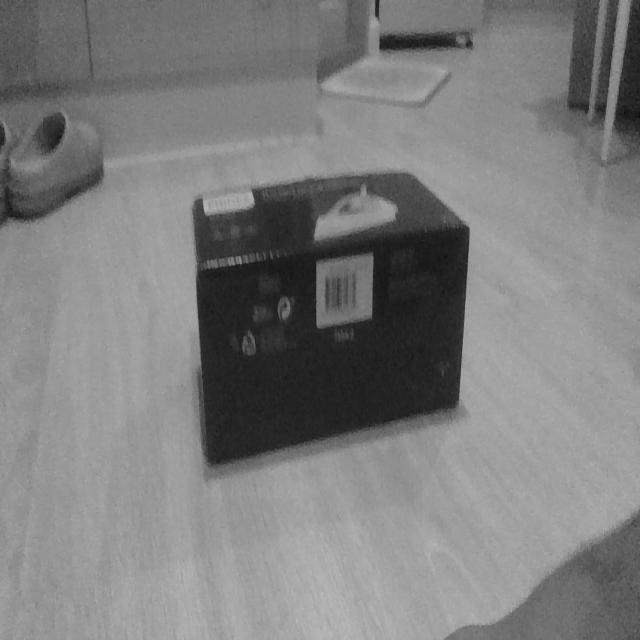IRON: (189, 166, 472, 470)
